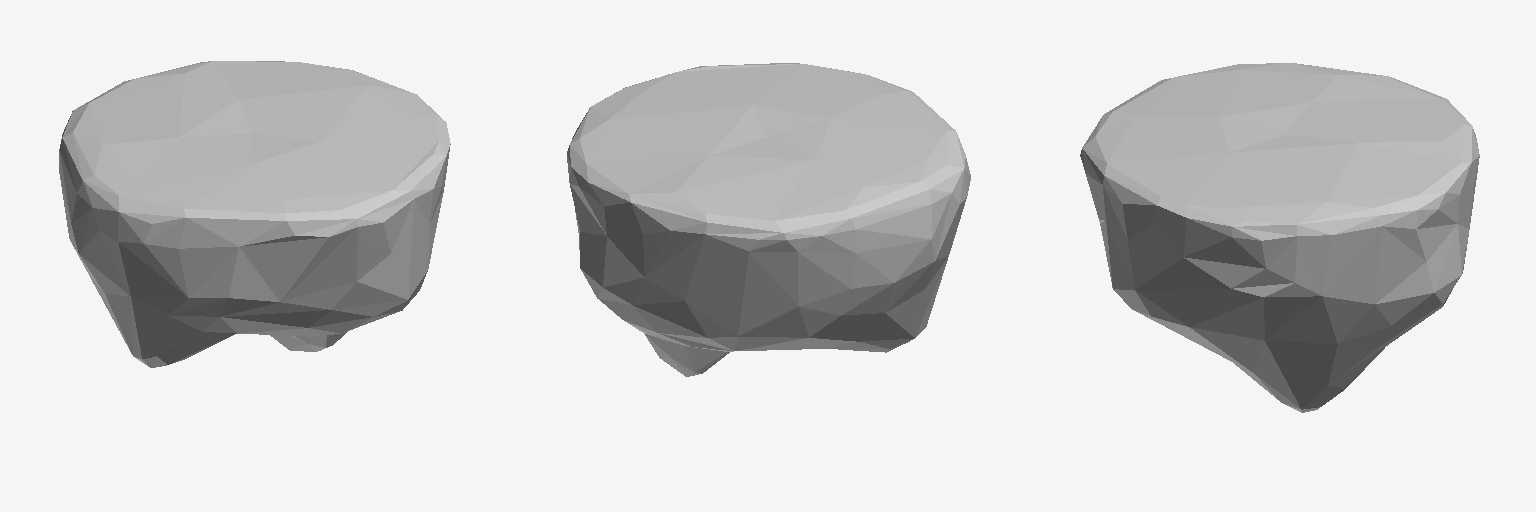
Rendered from island2Med.obj.
3 views of the same model, side by side, from view 1: azimuth 30°, elevation 25°; view 2: azimuth 150°, elevation 25°; view 3: azimuth 270°, elevation 25° (orthographic).
Parts seen in each view (by area): view 1: F3:GeoDome1_F3:GeoDome1_auv; view 2: F3:GeoDome1_F3:GeoDome1_auv; view 3: F3:GeoDome1_F3:GeoDome1_auv.
Part boxes in pixels (left/top/right/bottom): F3:GeoDome1_F3:GeoDome1_auv: left=59, top=61, right=450, bottom=367; F3:GeoDome1_F3:GeoDome1_auv: left=567, top=63, right=970, bottom=376; F3:GeoDome1_F3:GeoDome1_auv: left=1080, top=63, right=1479, bottom=412.
Size of the model in its own units: 2.02 by 1.36 by 2.01.